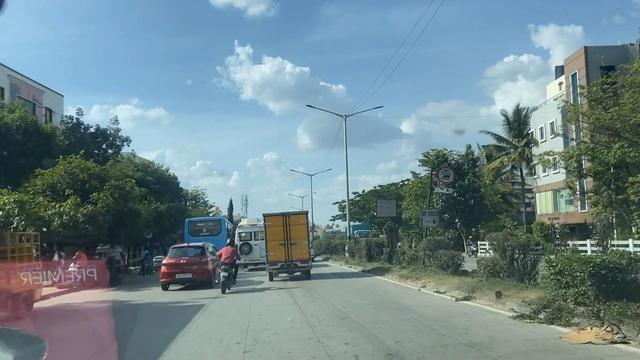LMV: (264, 209, 316, 277)
